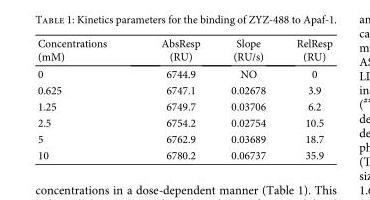table: (36, 36, 331, 161)
table column: (36, 36, 133, 161), (133, 36, 214, 161), (214, 36, 280, 161), (280, 36, 331, 161)
table column header: (36, 36, 331, 64)
table row: (36, 36, 331, 64), (36, 64, 331, 81), (36, 97, 331, 114), (36, 81, 331, 97), (36, 114, 331, 130), (36, 130, 331, 146), (36, 146, 331, 161)
